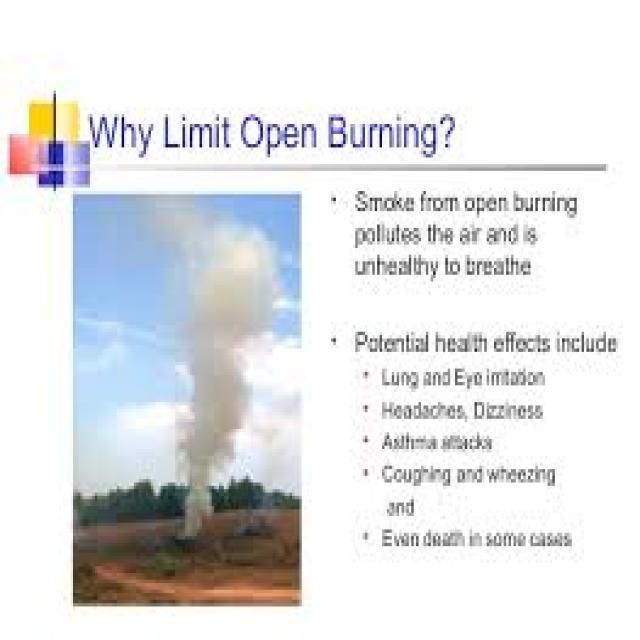Smoke: (152, 194, 279, 538)
